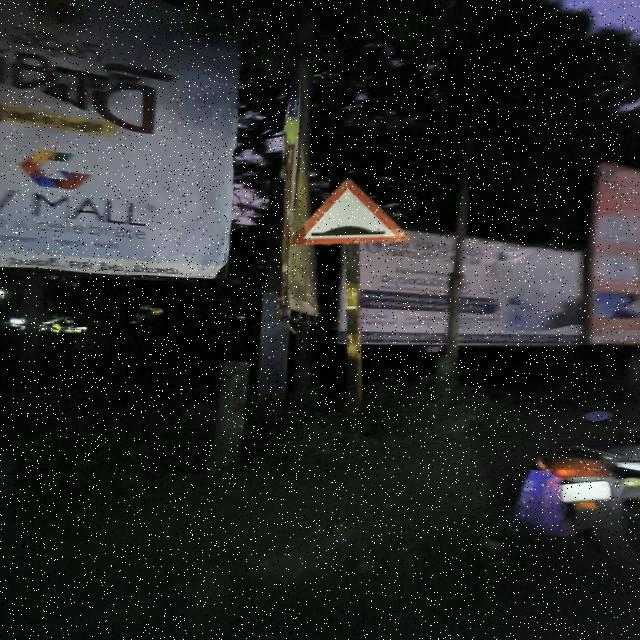Bump: (298, 177, 402, 249)
